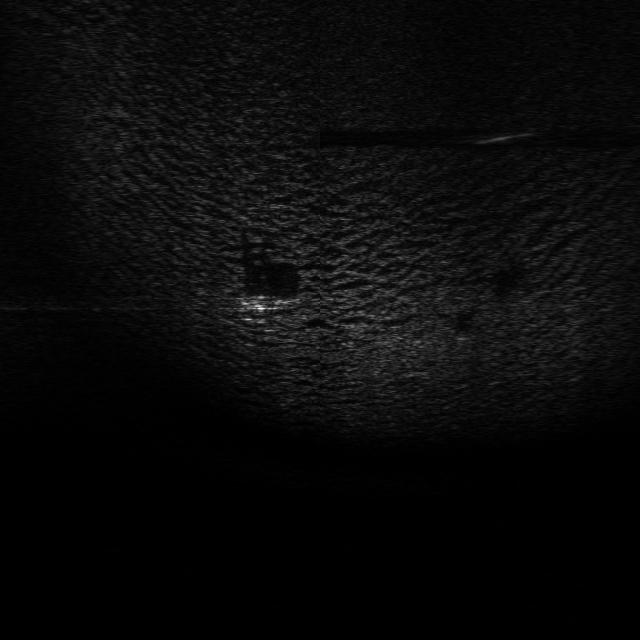plane: (239, 292, 297, 314)
